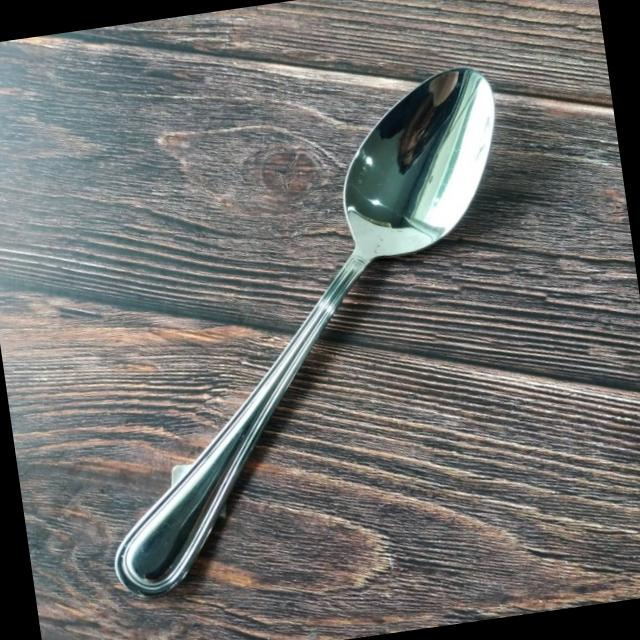spoon: (42, 57, 573, 626)
